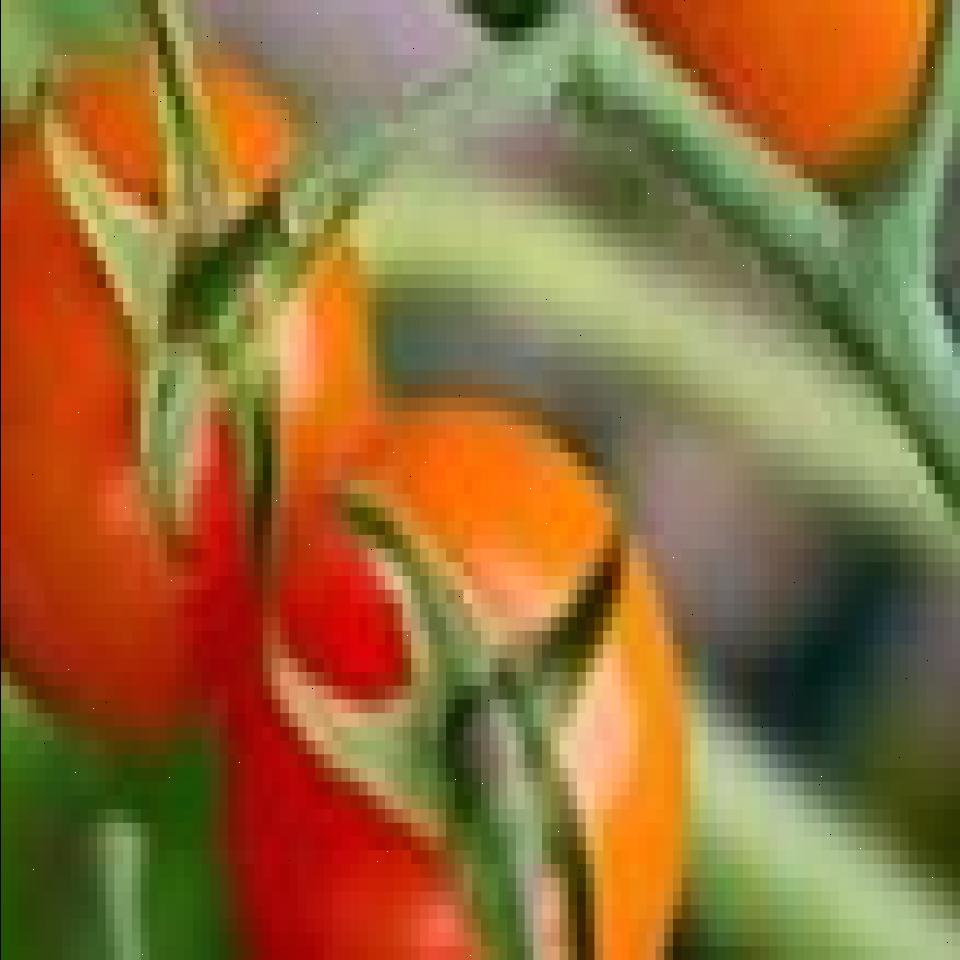Healthy: (253, 412, 698, 960), (0, 82, 376, 726)
